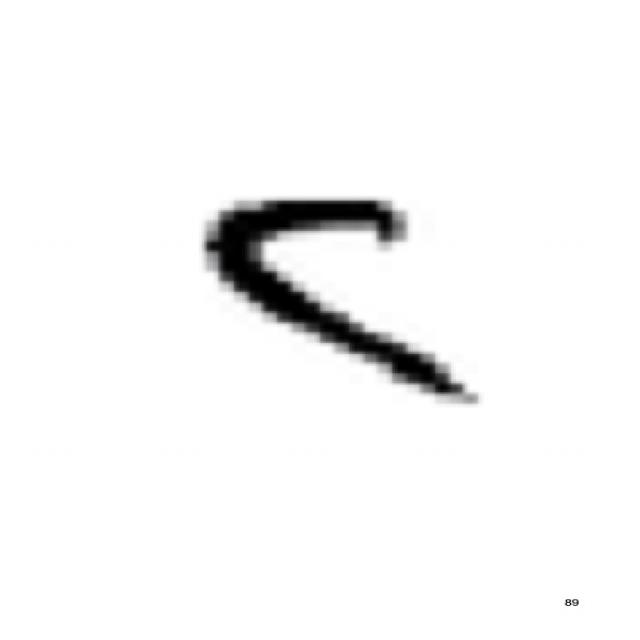2 -two-: (186, 179, 497, 420)
